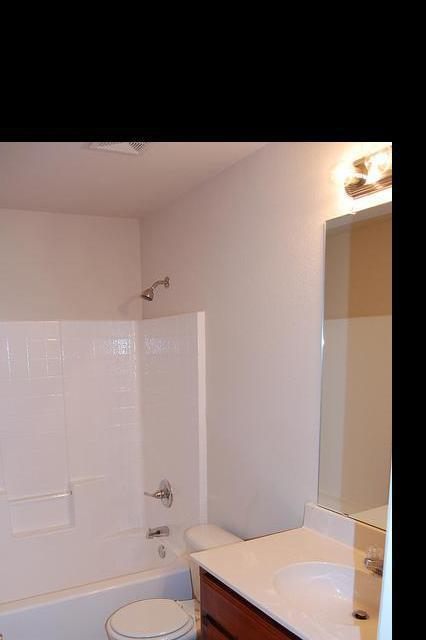Ducha: (128, 265, 215, 542)
Lavamanos: (265, 546, 391, 640)
Sanitario: (106, 524, 237, 640)
